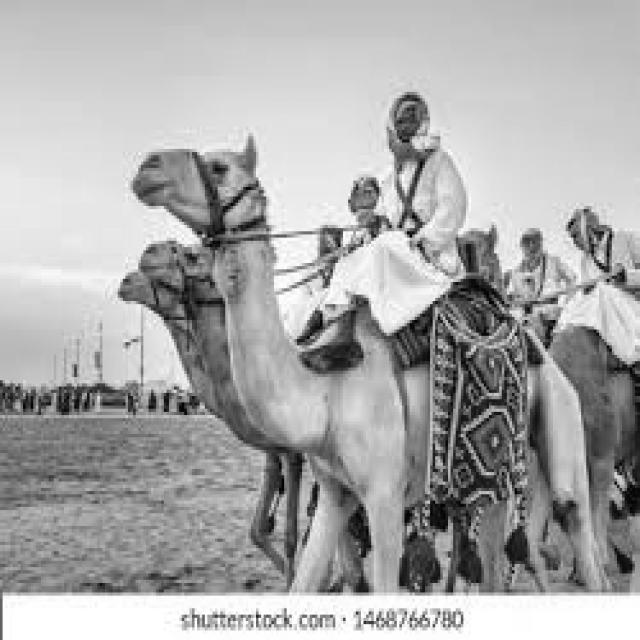Camel: (128, 130, 612, 592), (115, 235, 366, 592)
